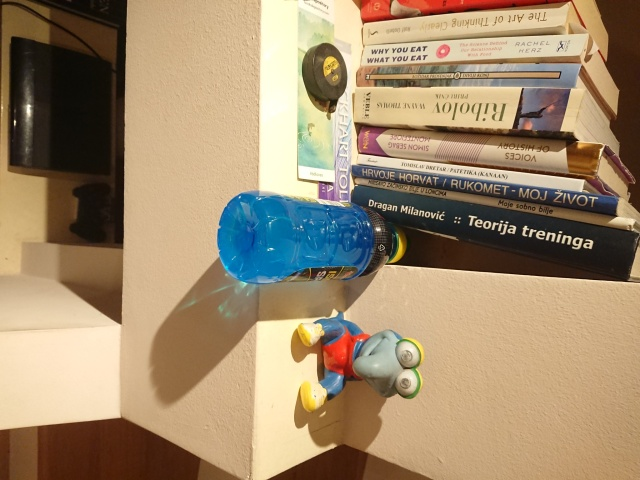Vindi Iso Sport Forest Strawberries 500mL: (216, 188, 419, 286)
